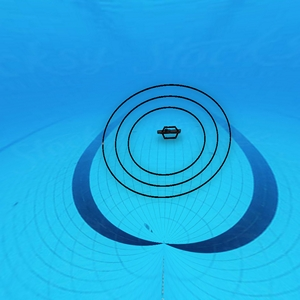circle: (101, 83, 232, 195)
submarine: (157, 127, 182, 142)
